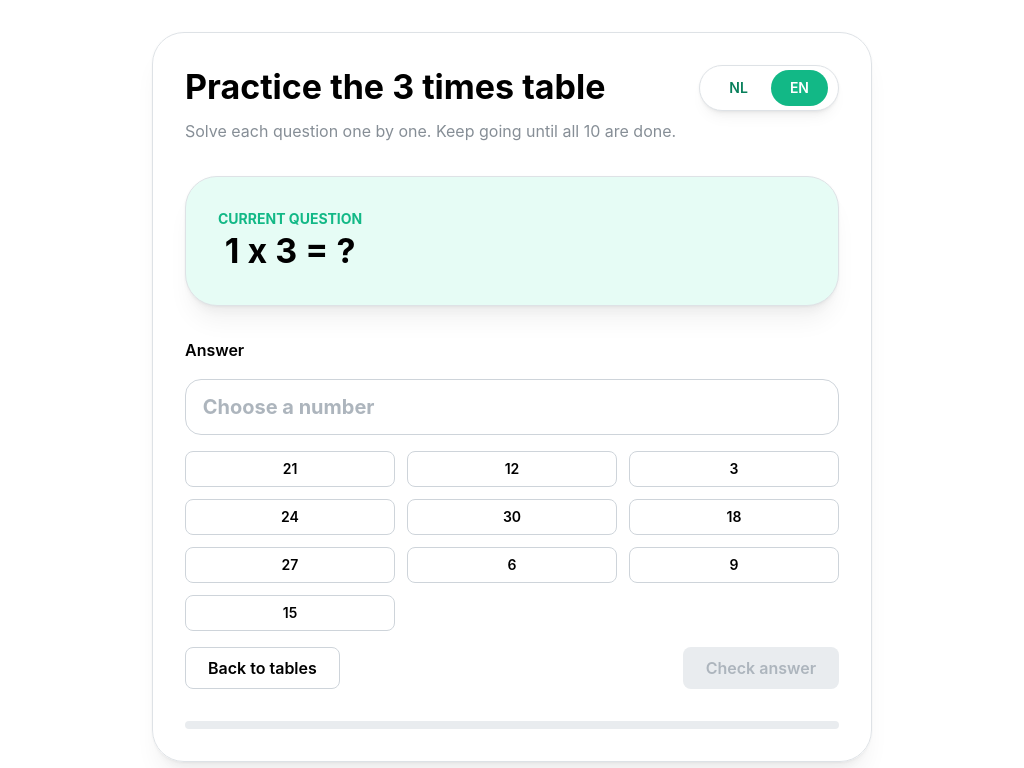
GIVEN correct feedback is visible, WHEN I choose to continue, THEN the app shows the next question for the selected table
Step 1. Click the button "3" → (734, 469), box [629,451,839,487]
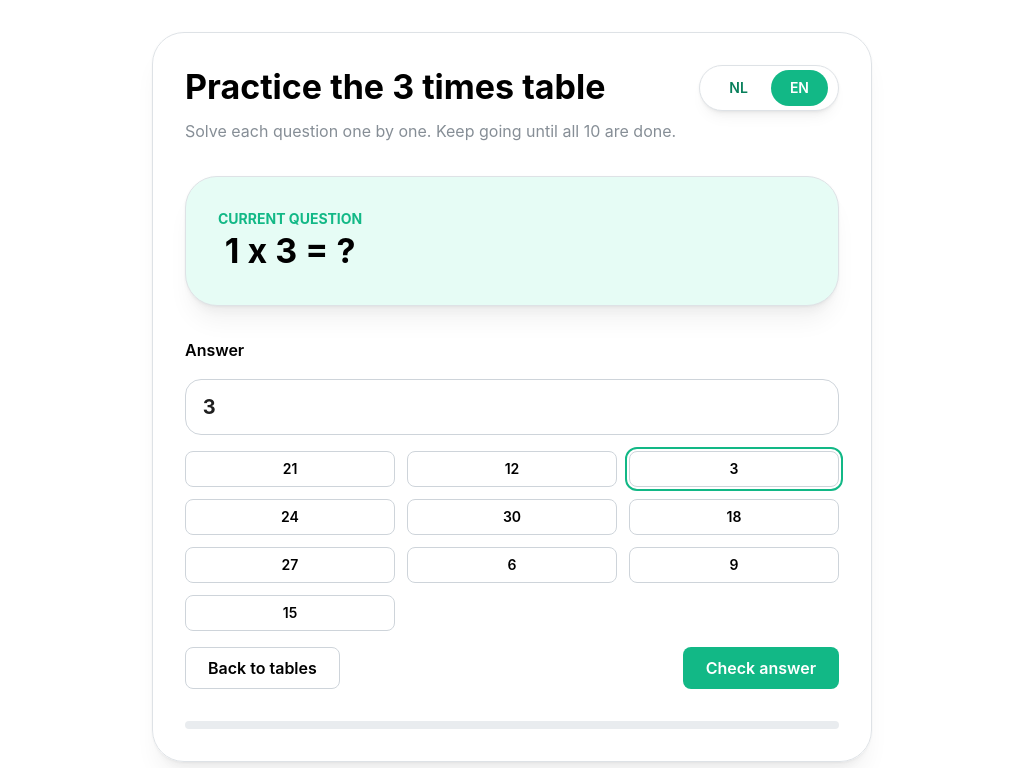
Step 2. Click the button "Check answer" → (761, 668), box [683,647,839,689]
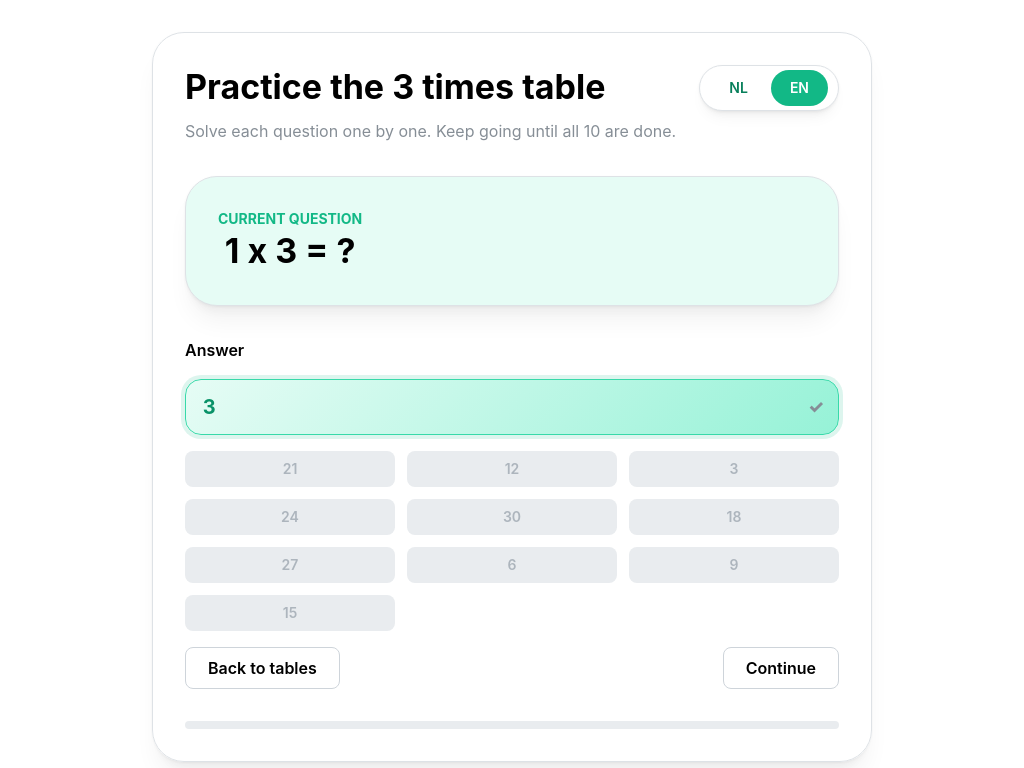
Step 3. Click the button "Continue" → (781, 668), box [723,647,839,689]
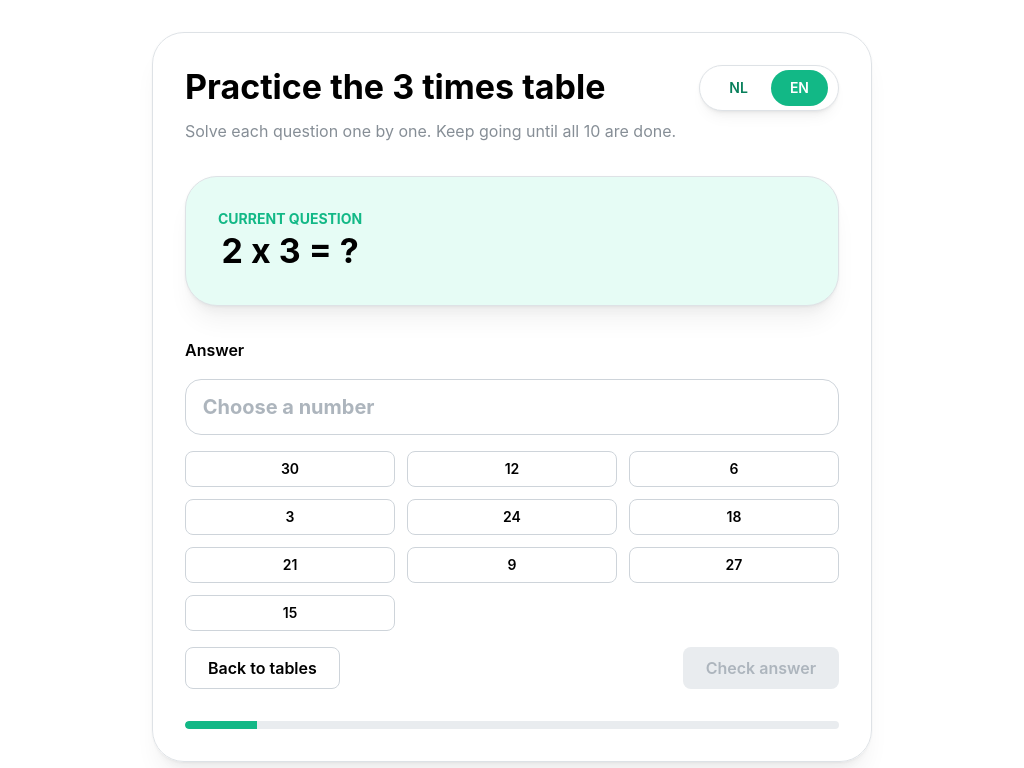
Expected: the heading "2 x 3 = ?" is shown, [218,229,362,274]
